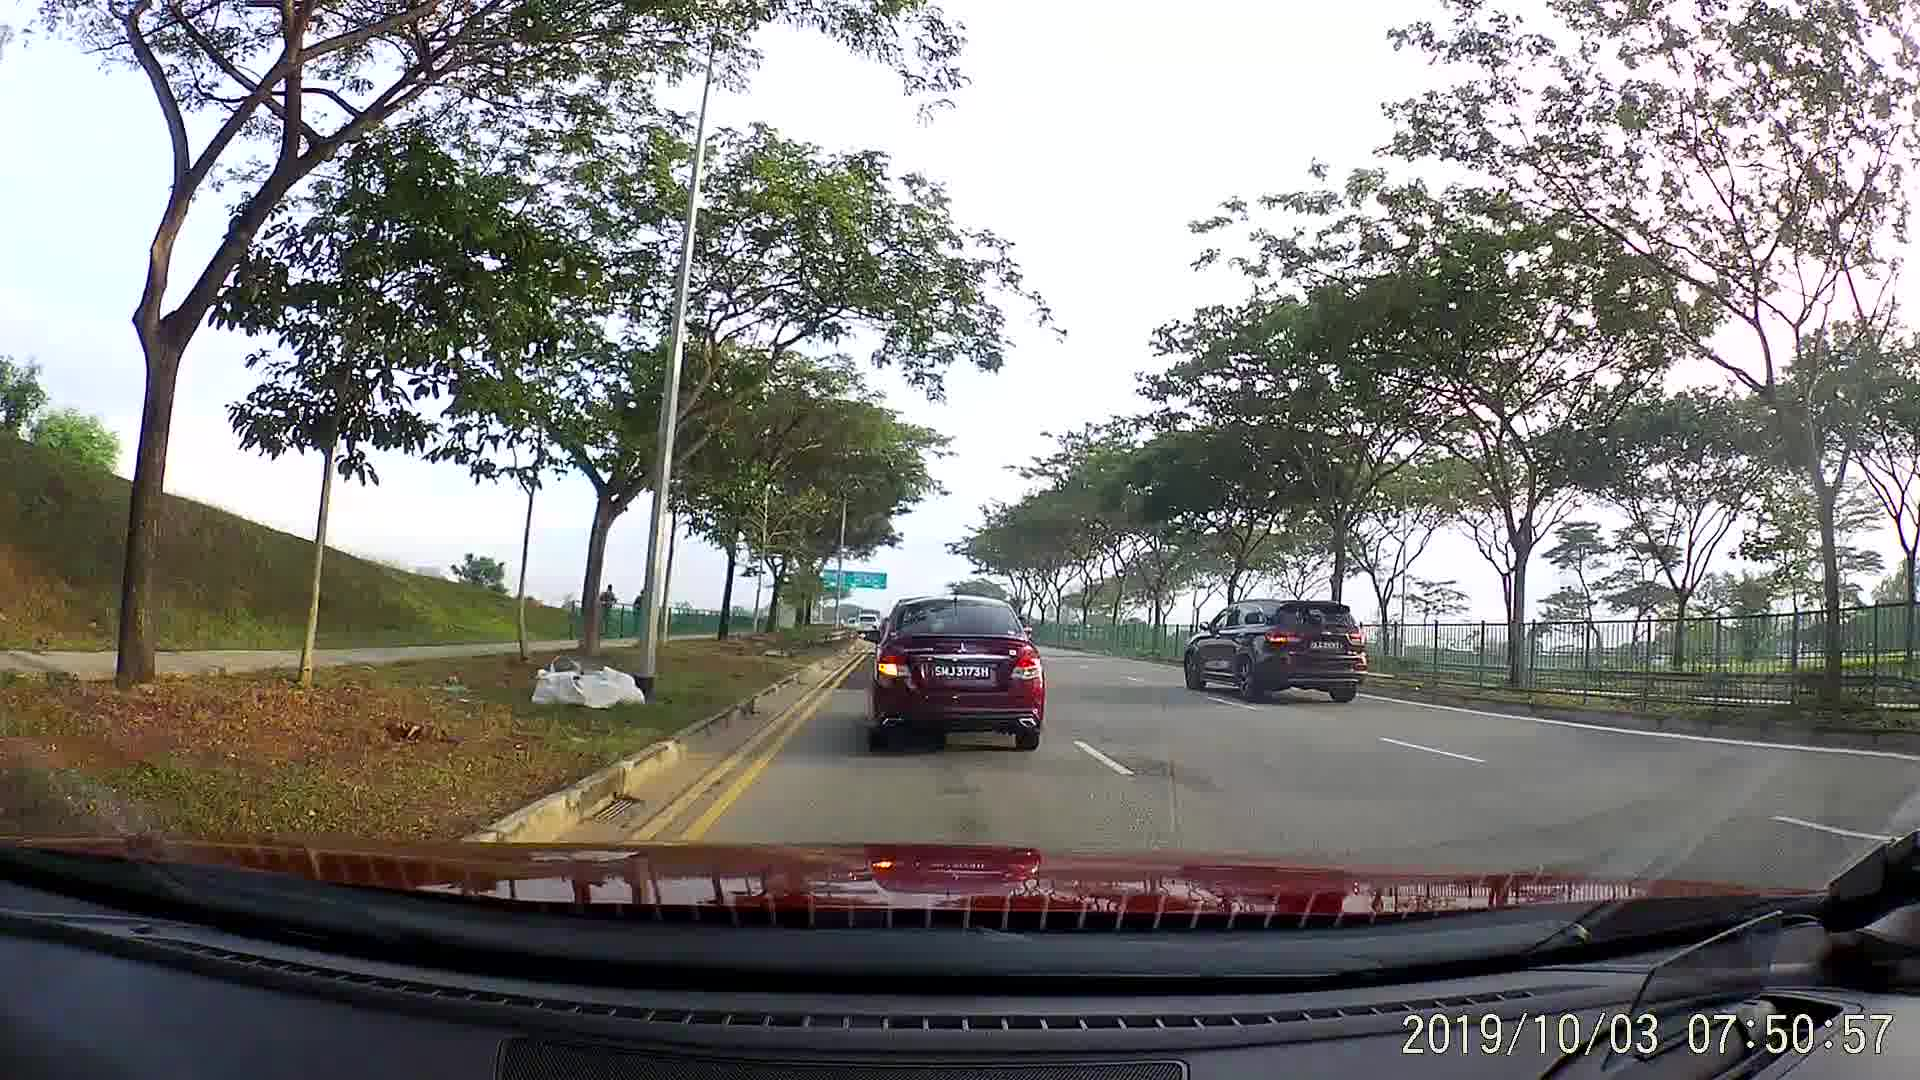car: (861, 596, 1046, 756), (1183, 591, 1370, 708), (847, 611, 882, 644)
